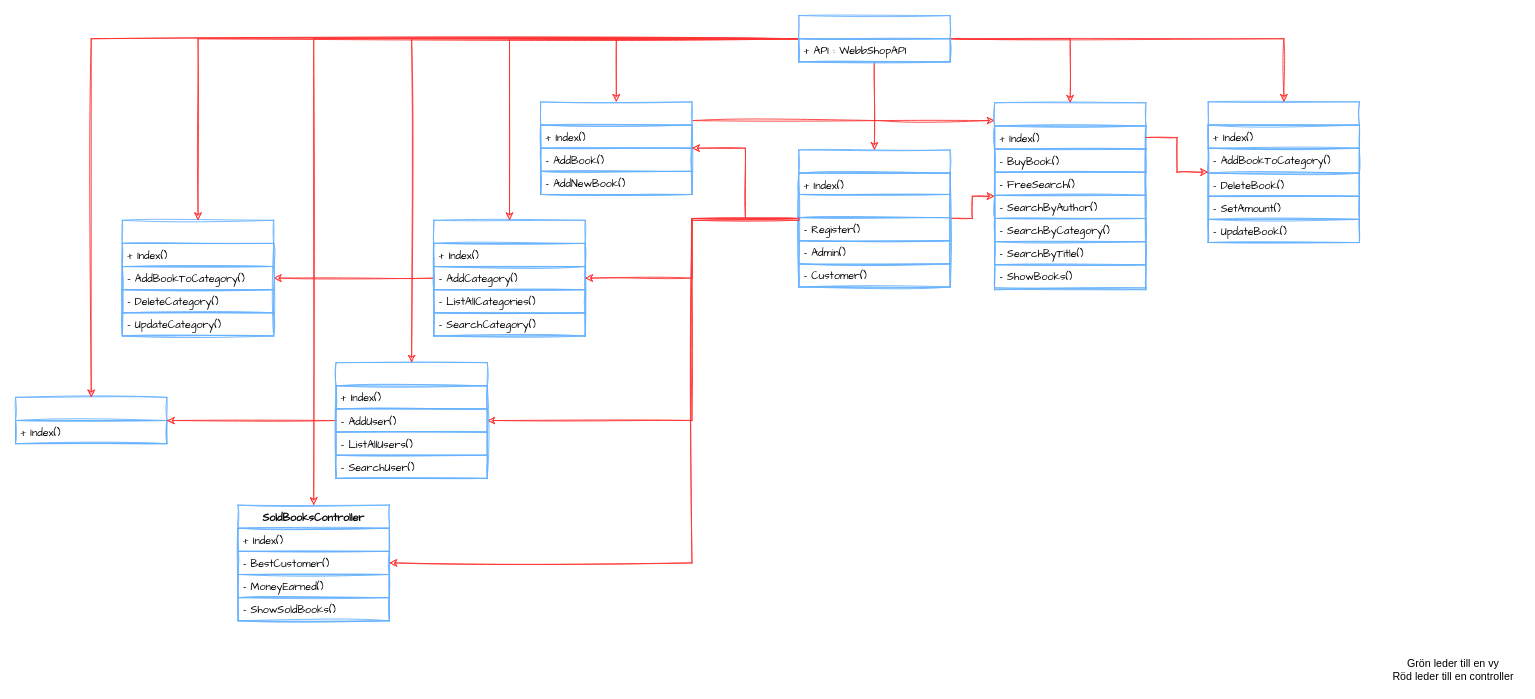
The diagram is 1535 pixels wide and 699 high, and some of its shapes have lost their labels. Each missing label, with the box of its shape:
- Login(): (798, 194, 950, 218)
BooksController: (540, 101, 692, 194)
CategoriesController: (433, 219, 585, 336)
Helper: (798, 15, 950, 62)
HomeController: (798, 149, 950, 287)
SearchController: (994, 102, 1146, 290)
SelectedBookController: (1207, 101, 1359, 243)
SelectedCategoryController: (121, 219, 274, 336)
SelectedUserController: (15, 396, 167, 444)
UsersController: (335, 362, 487, 478)
